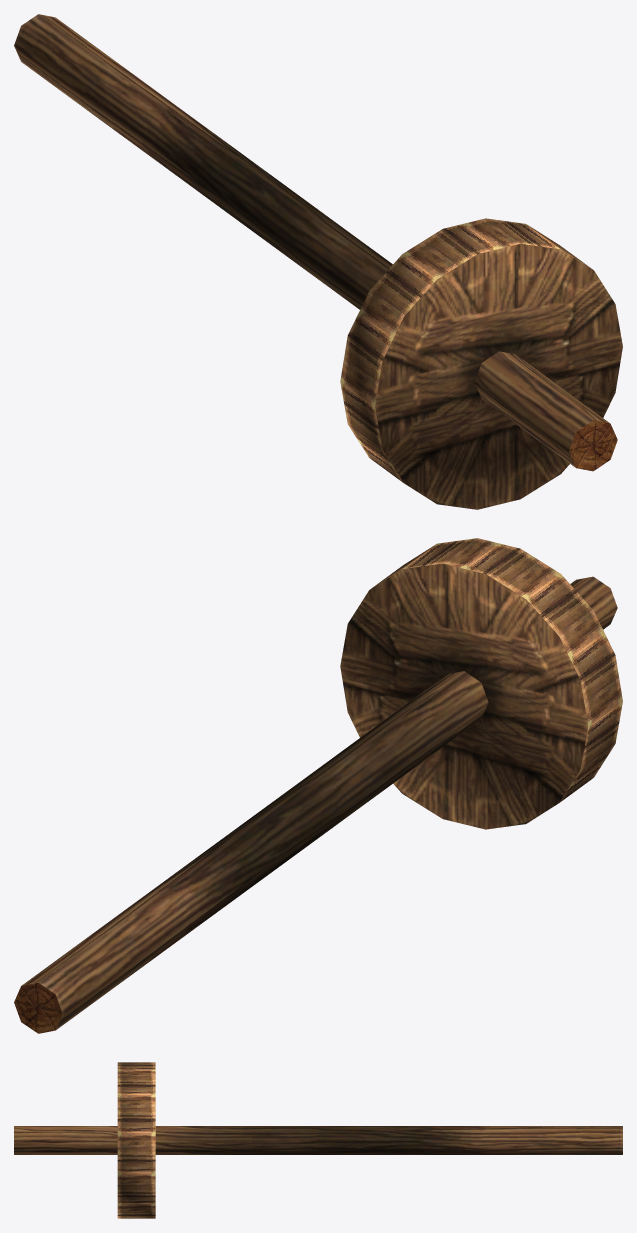
Rendered from INST_SWORDLIGHT_DRUMD.fbx.
The picture shows the model from 3 angles, top to bottom: view 1: azimuth 30°, elevation 25°; view 2: azimuth 150°, elevation 25°; view 3: azimuth 270°, elevation 25°; orthographic projection. The views are drawn at different scales.
Parts seen in each view (by area): view 1: INST_SWORDLIGHT_DRUMD; view 2: INST_SWORDLIGHT_DRUMD; view 3: INST_SWORDLIGHT_DRUMD.
Boxes of the visible parts, box(x1,y1,x2,y2) form: INST_SWORDLIGHT_DRUMD: box(14, 14, 622, 509); INST_SWORDLIGHT_DRUMD: box(14, 538, 622, 1033); INST_SWORDLIGHT_DRUMD: box(14, 1062, 622, 1218).
Bounding box in the file's own units: 25400 × 25014 × 98486.
4 materials, 4 textured.
